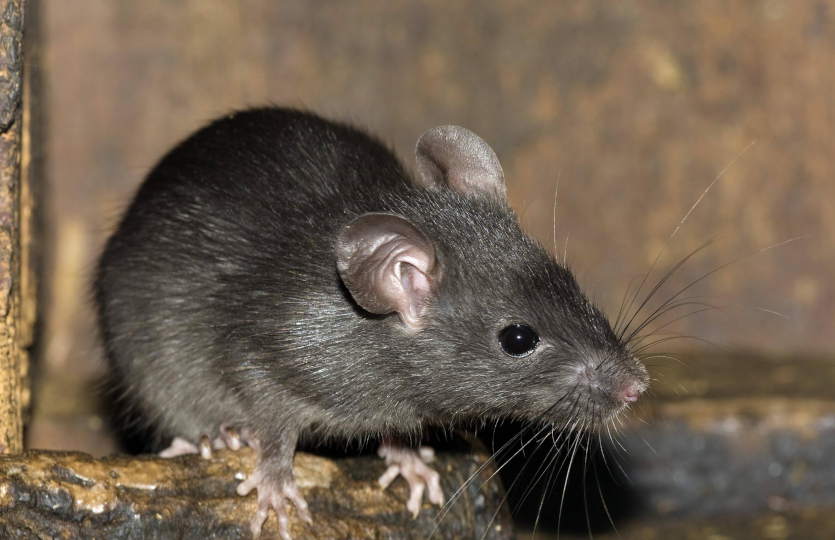rat: (71, 86, 664, 540)
